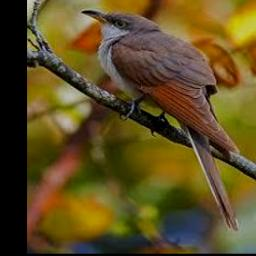Cuckoo: (81, 9, 240, 230)
